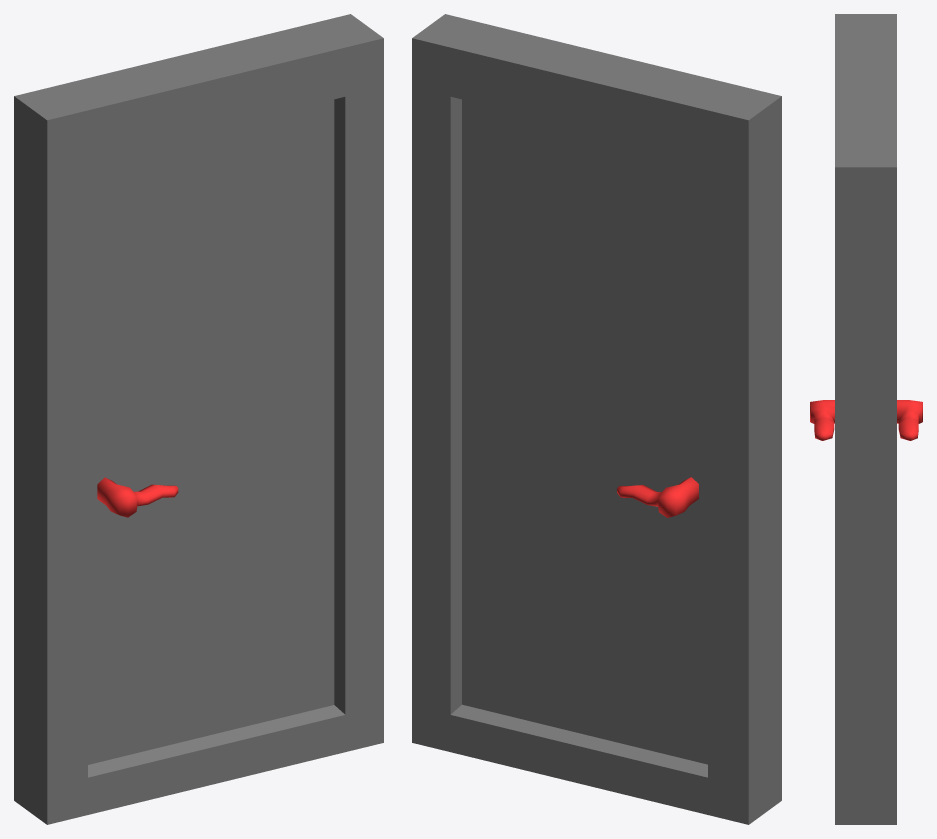
Rendered from Door.fbx.
3 renders of one model, left to right at view 1: azimuth 30°, elevation 25°; view 2: azimuth 150°, elevation 25°; view 3: azimuth 270°, elevation 25°, orthographic. The views are drawn at different scales.
Visible parts, largest first — view 1: 对象003, Box009; view 2: 对象003, Box009; view 3: Box009, 对象003.
Boxes of the visible parts, x1,y1,x2,y2 form: 对象003: [88, 99, 334, 764]; Box009: [14, 14, 383, 824]; 对象003: [462, 99, 707, 764]; Box009: [412, 14, 781, 824]; Box009: [835, 14, 896, 824]; 对象003: [810, 400, 922, 440].
Size of the model in its own units: 23.62 by 47.25 by 7.35.
